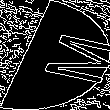M_W: (8, 25, 102, 85)
